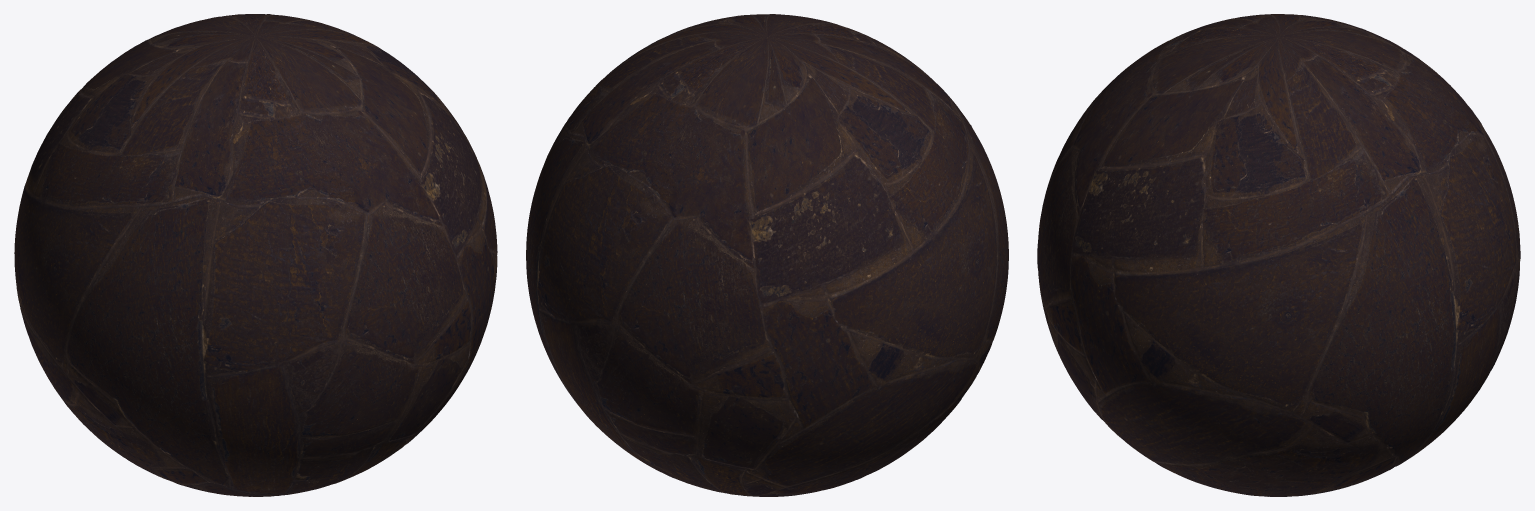
File: slate_floor_2k.gltf
3 renders of one model, left to right at view 1: azimuth 30°, elevation 25°; view 2: azimuth 150°, elevation 25°; view 3: azimuth 270°, elevation 25°, orthographic.
Visible parts, largest first — view 1: sphere_gltf; view 2: sphere_gltf; view 3: sphere_gltf.
Part boxes in pixels (<box>): sphere_gltf: <box>14,14,497,496</box>; sphere_gltf: <box>526,14,1008,496</box>; sphere_gltf: <box>1037,14,1520,496</box>.
Size of the model in its own units: 2.29 by 2.29 by 2.3.
Materials: 1 (1 with a texture image).
